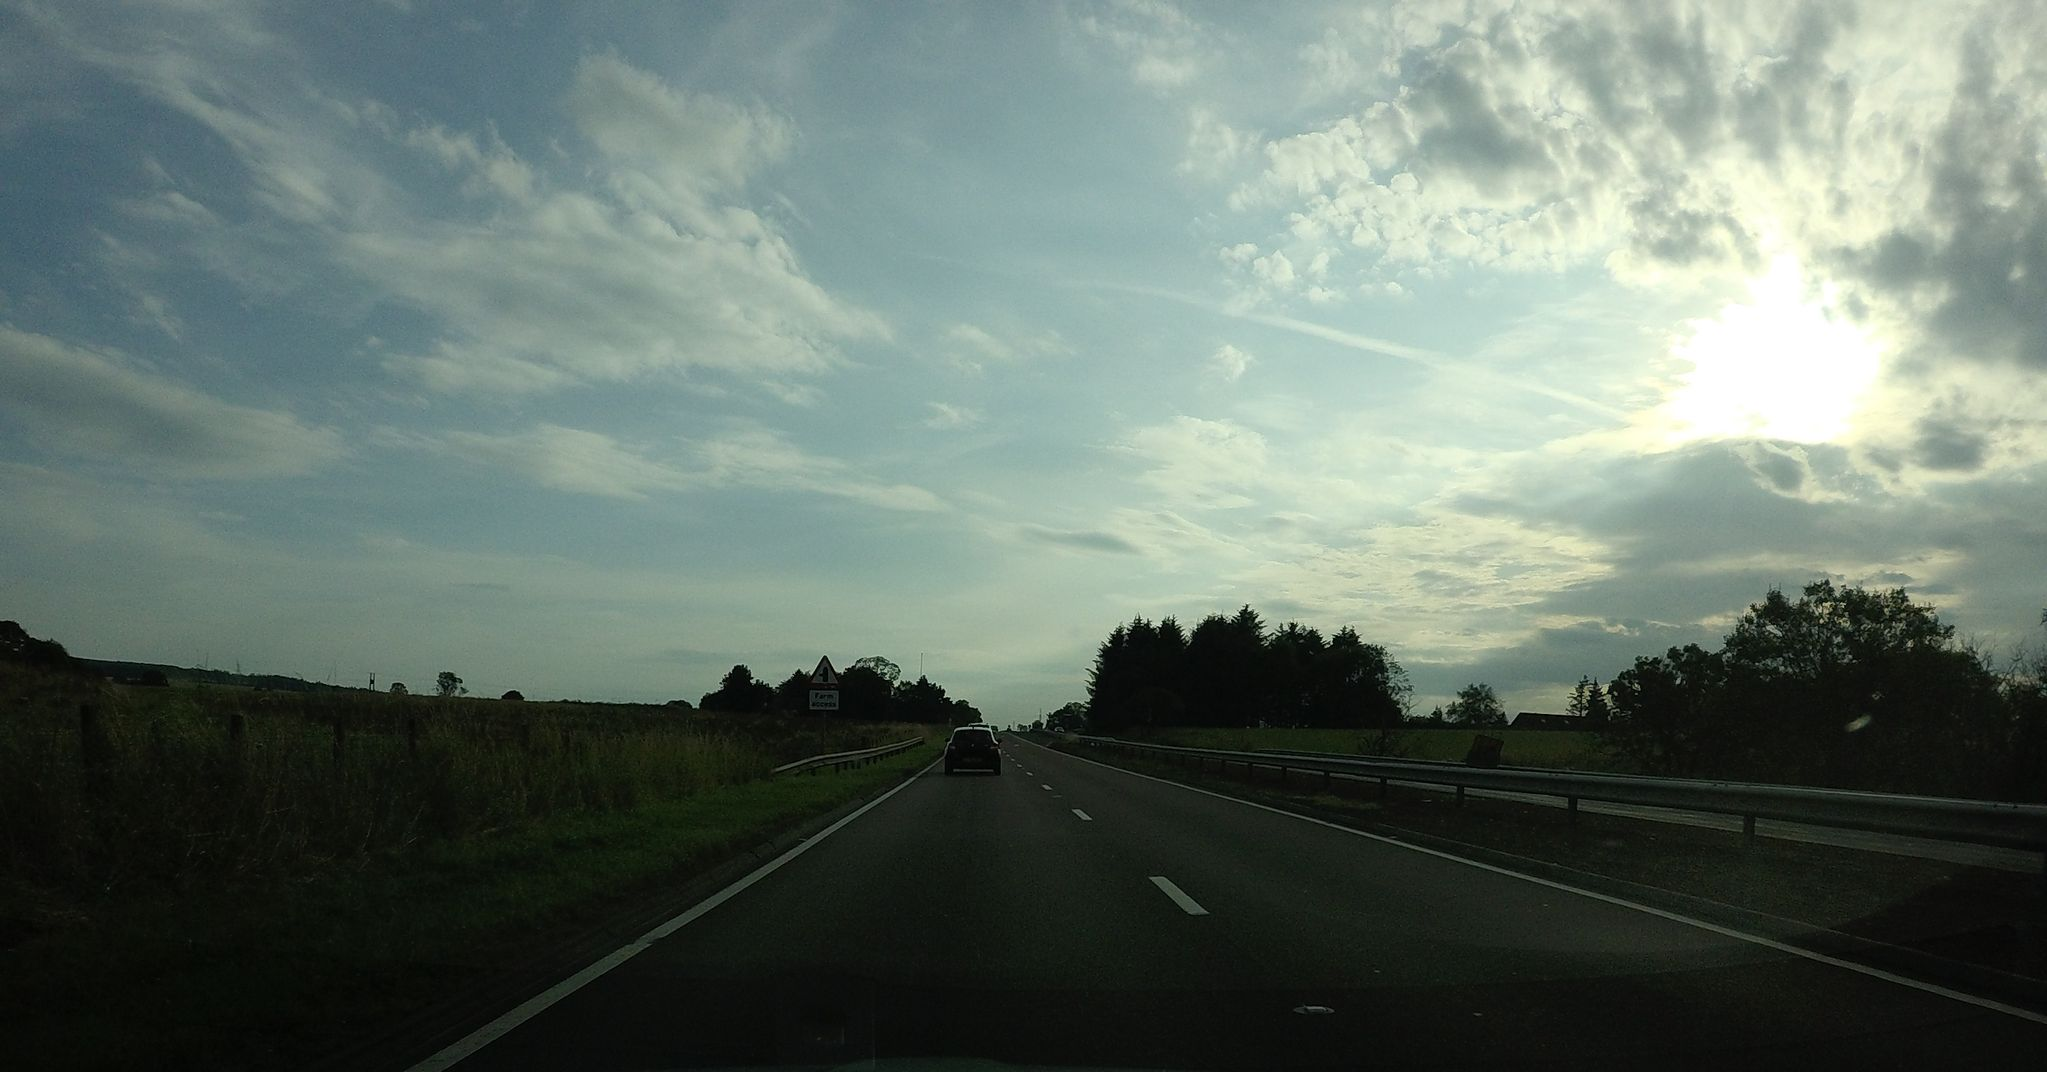car: (942, 724, 1002, 774)
